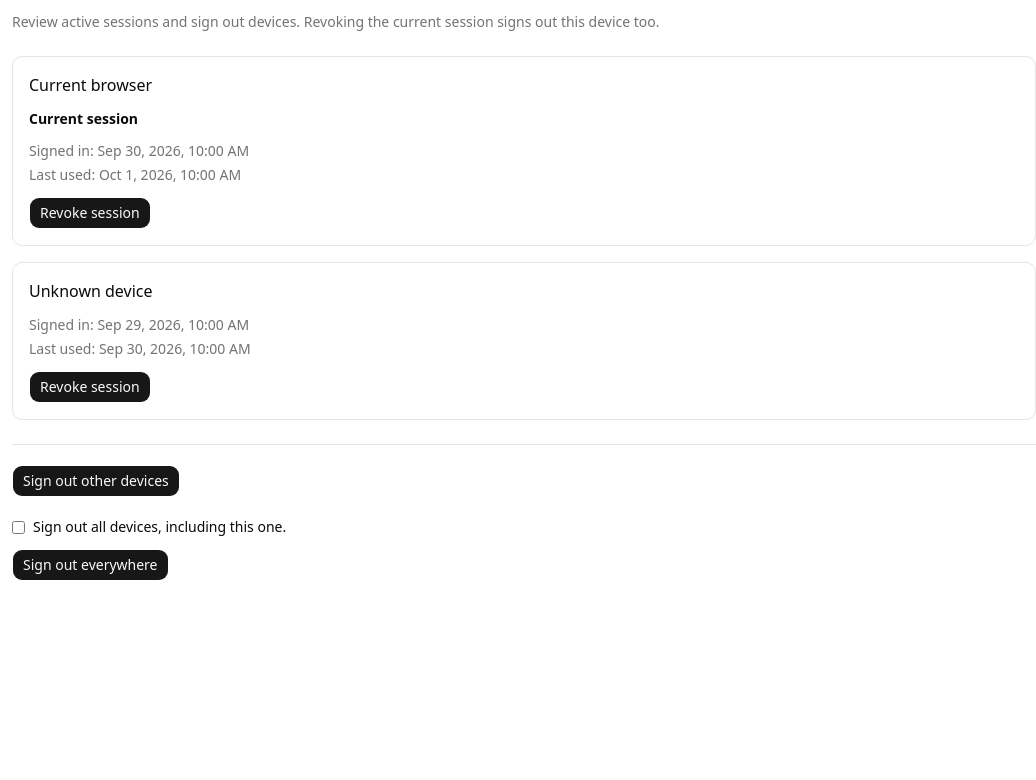
Test: 폐기 실패와 재시도 시간을 폼 안내로 표시한다
The width and height of the screenshot is (1036, 780).
Click the button "Revoke session" below "Unknown device" at (90, 387), box [29,371,151,403]
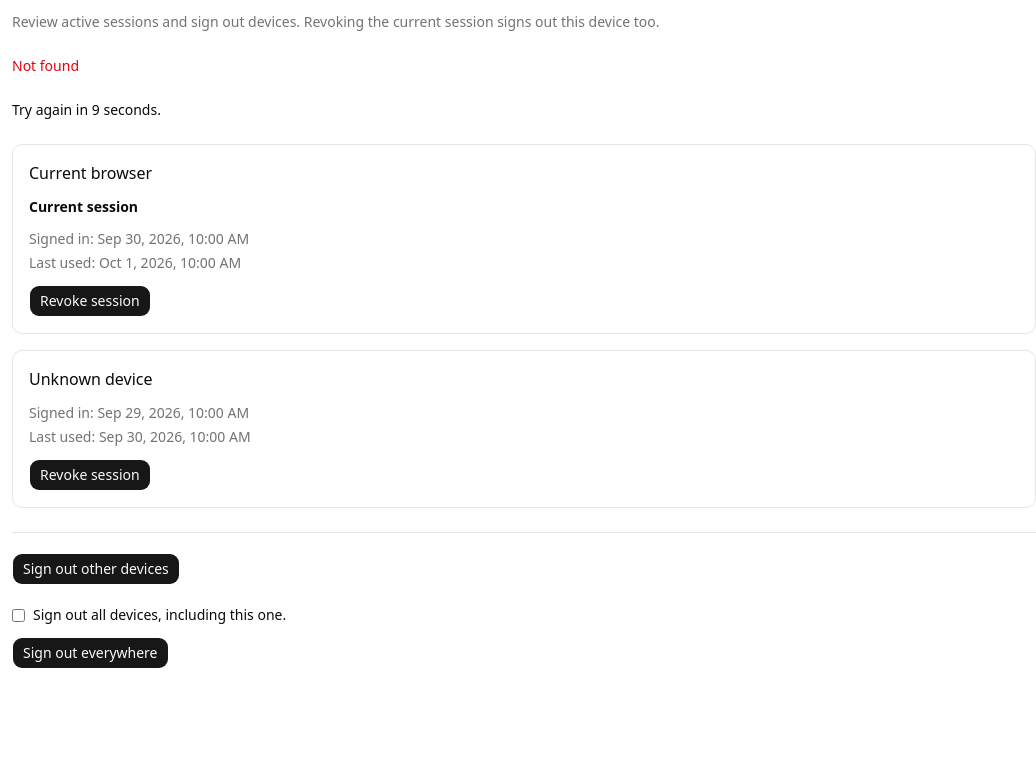
Result: the message reads "Not found" at [12,56,79,75]
Result: the text "Try again in 9 seconds." is shown at [12,100,161,119]
